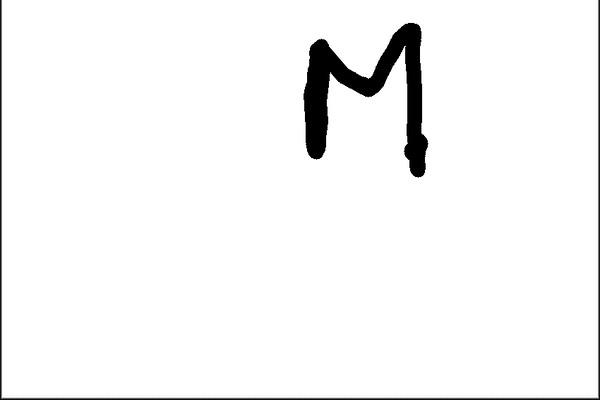M: (302, 15, 430, 177)
